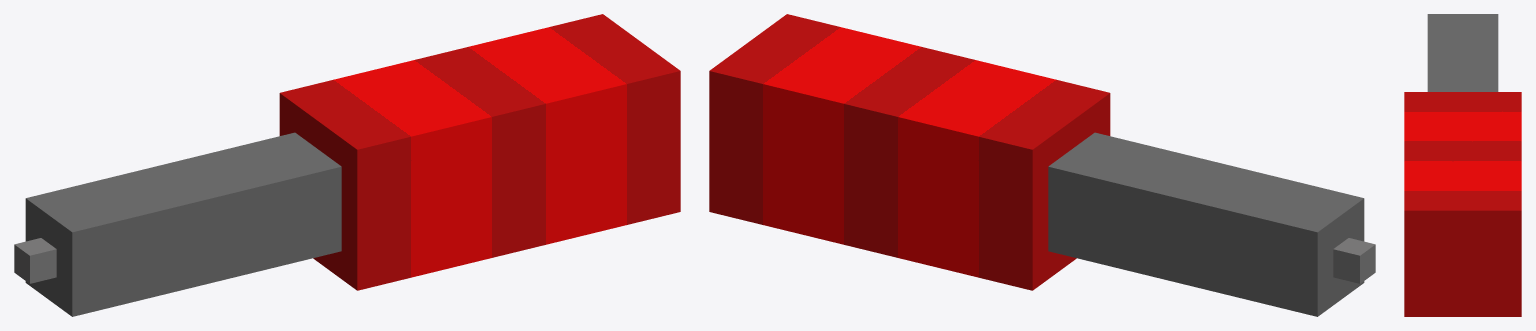
Rendered from screwdriver.dae.
The picture shows the model from 3 angles, left to right: view 1: azimuth 30°, elevation 25°; view 2: azimuth 150°, elevation 25°; view 3: azimuth 270°, elevation 25°; orthographic projection. The views are drawn at different scales.
Visible parts, largest first — view 1: screwdriver; view 2: screwdriver; view 3: screwdriver.
Boxes of the visible parts, x1,y1,x2,y2 form: screwdriver: (14, 14, 680, 316); screwdriver: (709, 14, 1375, 316); screwdriver: (1404, 14, 1521, 316).
Size of the model in its own units: 2.3 by 0.5 by 0.5.
1 material, 1 textured.
